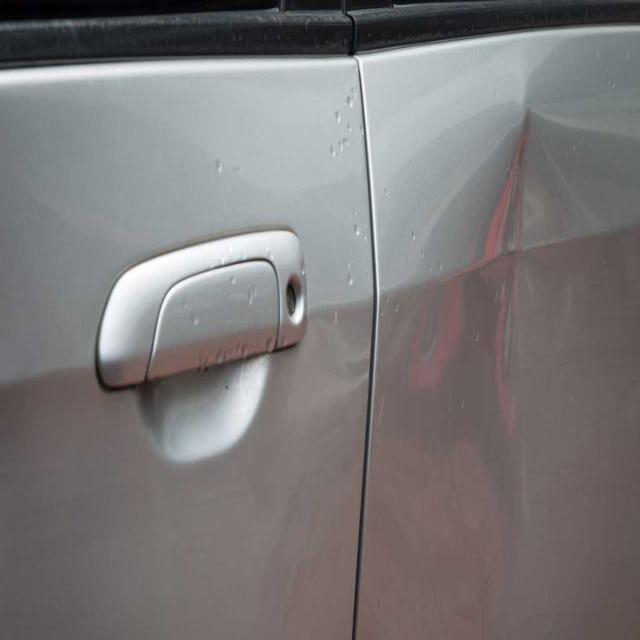dent: (248, 21, 640, 640)
